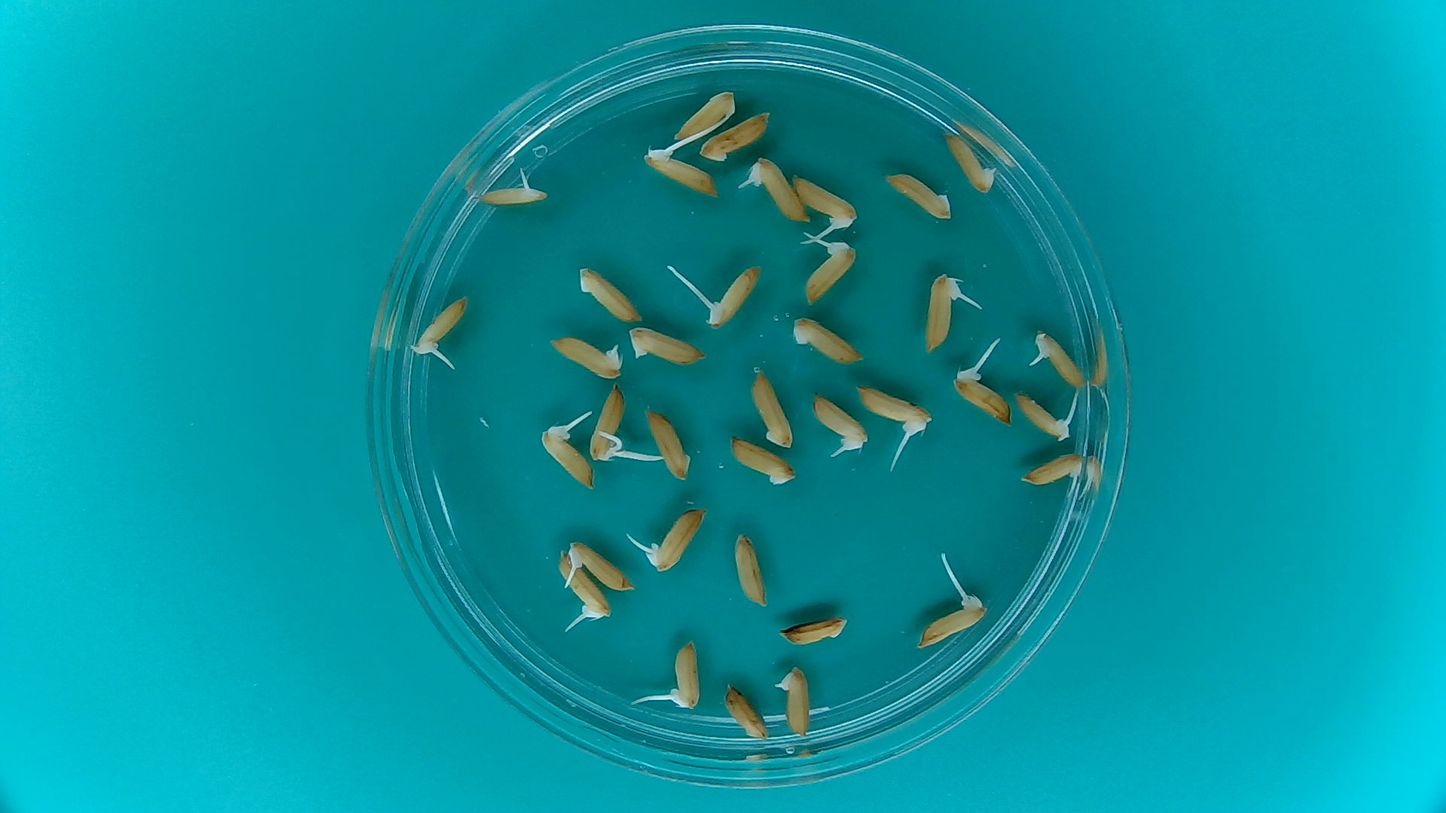no: (575, 261, 645, 324), (788, 314, 868, 367), (879, 169, 955, 223), (644, 403, 694, 484), (749, 364, 796, 449), (944, 126, 1002, 193), (699, 111, 773, 162), (726, 434, 797, 486), (673, 87, 737, 144), (626, 324, 707, 367), (721, 679, 769, 743), (731, 530, 769, 610), (775, 612, 851, 644)
yes: (852, 381, 929, 440), (702, 260, 765, 331), (748, 156, 812, 223), (407, 291, 470, 359), (647, 502, 708, 572), (808, 390, 871, 455), (644, 144, 720, 197), (792, 174, 861, 232), (538, 422, 595, 492), (803, 233, 860, 303), (1027, 327, 1089, 390), (565, 537, 637, 591), (950, 370, 1013, 425), (547, 335, 624, 380), (1011, 388, 1076, 441), (923, 271, 963, 357), (918, 595, 986, 645), (587, 381, 627, 461), (775, 661, 813, 738), (1017, 450, 1087, 489), (563, 566, 613, 620), (670, 639, 703, 712), (476, 180, 549, 206)
